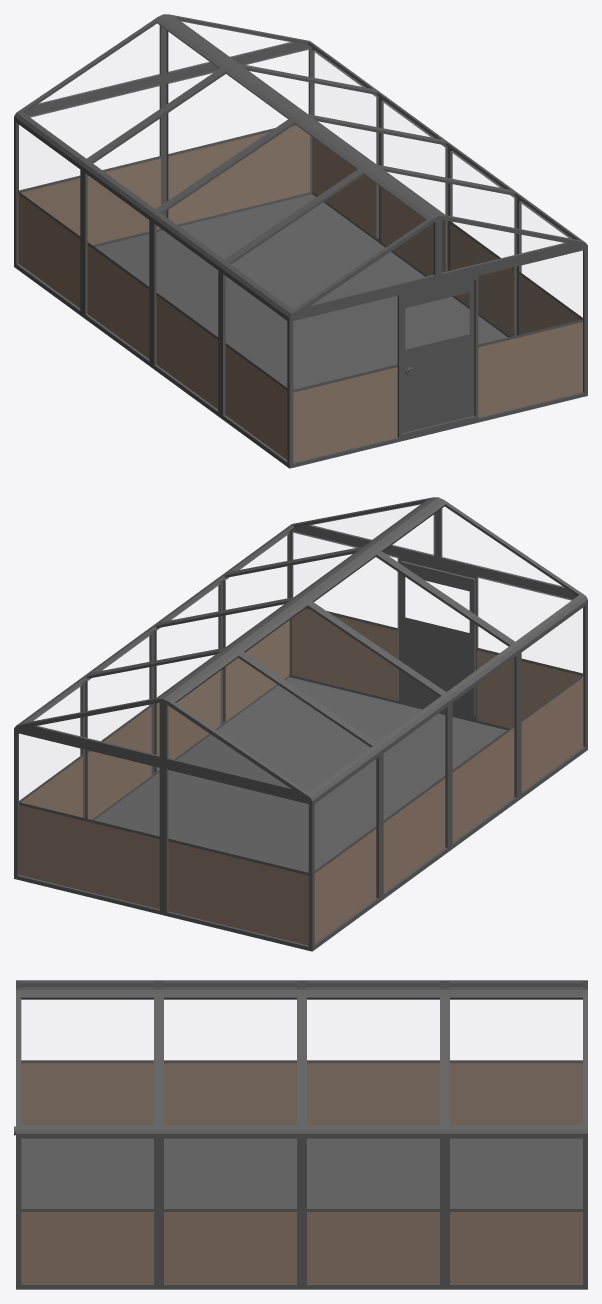
The model's file is greenhouse.glb.
3 renders of one model, top to bottom at view 1: azimuth 30°, elevation 25°; view 2: azimuth 150°, elevation 25°; view 3: azimuth 270°, elevation 25°, orthographic. The views are drawn at different scales.
Parts seen in each view (by area): view 1: Cube; view 2: Cube; view 3: Cube.
Boxes of the visible parts, left/top/right/bottom form: Cube: left=14, top=14, right=587, bottom=468; Cube: left=14, top=497, right=587, bottom=951; Cube: left=14, top=980, right=587, bottom=1289.
Bounding box in the file's own units: 5 × 3.46 × 8.03.
